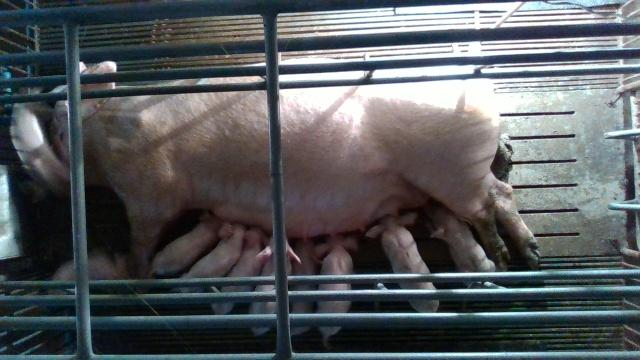piglet: (366, 212, 440, 313), (424, 202, 496, 284), (174, 222, 257, 293), (248, 232, 302, 336), (10, 104, 69, 198), (148, 210, 232, 276), (315, 234, 359, 349), (222, 227, 270, 292), (290, 238, 322, 335)
sow-sleep-lactate: (51, 60, 542, 293)
